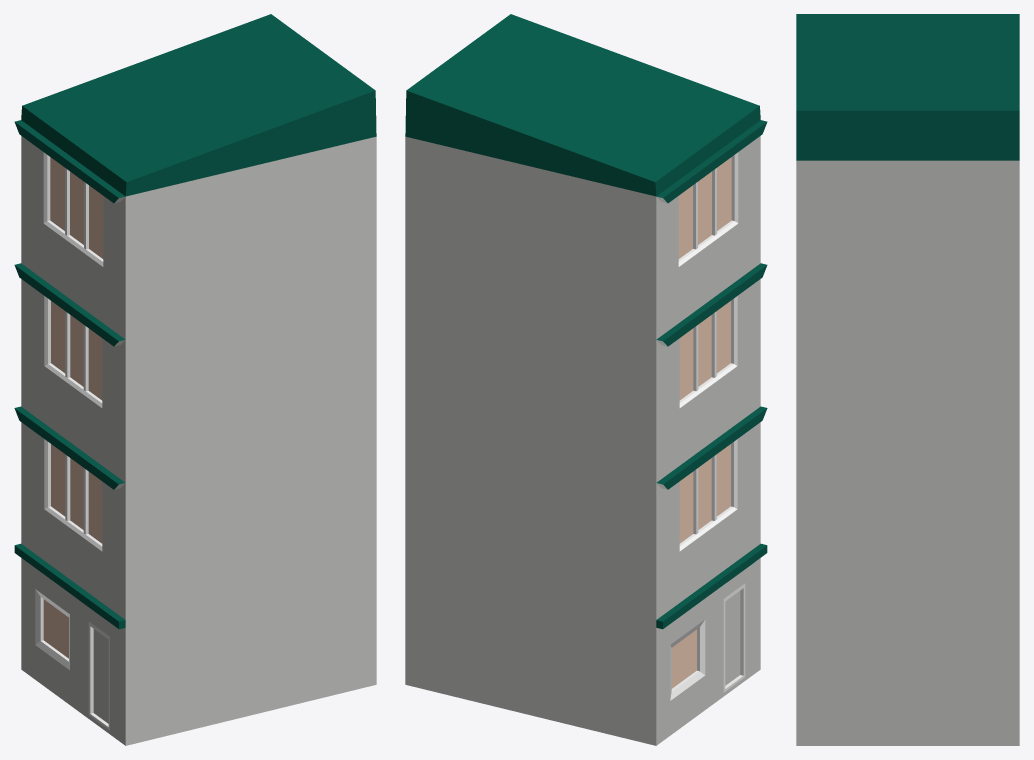
Rendered from nha hien dai 2.fbx.
3 views of the same model, side by side, from view 1: azimuth 30°, elevation 25°; view 2: azimuth 150°, elevation 25°; view 3: azimuth 270°, elevation 25° (orthographic). The views are drawn at different scales.
Parts seen in each view (by area): view 1: Nha hien dai 2; view 2: Nha hien dai 2; view 3: Nha hien dai 2.
Part boxes in pixels (x1,y1,x2,y2): Nha hien dai 2: (14,14,376,745); Nha hien dai 2: (405,14,767,745); Nha hien dai 2: (796,14,1019,745).
Bounding box in the file's own units: 407 × 897 × 286.
